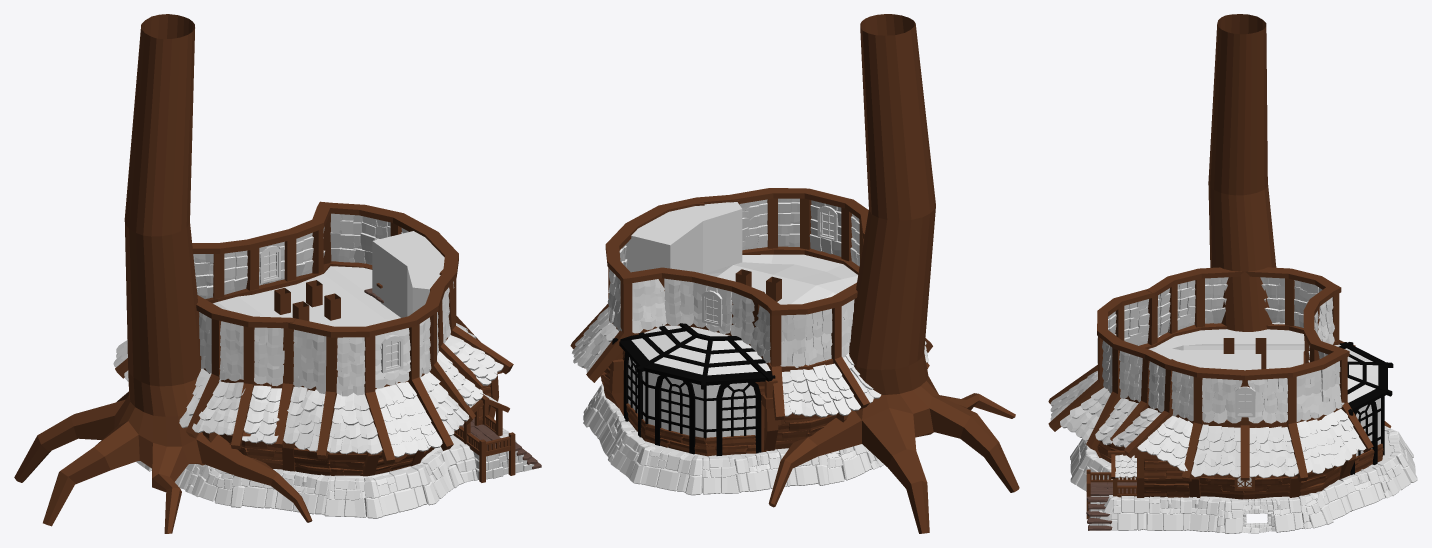
The model's file is GroundFloorPlayTest2.fbx.
3 renders of one model, left to right at view 1: azimuth 30°, elevation 25°; view 2: azimuth 150°, elevation 25°; view 3: azimuth 270°, elevation 25°, orthographic. The views are drawn at different scales.
Visible parts, largest first — view 1: Tree, RoofFinal, RoofBeam.002, HouseStoneBase, RoofBeam.001, Cube.062, Cube.068, OuterBeam.002, Plank.052, PorchBanister.001, RoofBeam.003, Plank.050 (+2 smaller); view 2: Tree, RoofFinal, HouseStoneBase, Cube.068, RoofBeam.001, RoofBeam.002, GHPlank2, Cube.062, GHWindow1, GHWindow2, GHPlank3, GHWall (+6 smaller); view 3: RoofFinal, Tree, HouseStoneBase, RoofBeam.002, RoofBeam.001, Cube.062, OuterBeam.002, Plank.072, Cube.068, RoofBeam.003, GHPlank3, PorchStairs (+10 smaller).
Boxes of the visible parts, x1=… form: Tree: x1=14, y1=14, x2=312, y2=533; RoofFinal: x1=113, y1=213, x2=503, y2=457; RoofBeam.002: x1=115, y1=213, x2=513, y2=464; HouseStoneBase: x1=136, y1=428, x2=534, y2=518; RoofBeam.001: x1=192, y1=201, x2=458, y2=337; Cube.062: x1=213, y1=266, x2=400, y2=326; Cube.068: x1=372, y1=231, x2=444, y2=317; OuterBeam.002: x1=202, y1=280, x2=502, y2=476; Plank.052: x1=294, y1=443, x2=434, y2=475; PorchBanister.001: x1=459, y1=394, x2=515, y2=482; RoofBeam.003: x1=203, y1=261, x2=447, y2=390; Plank.050: x1=220, y1=434, x2=282, y2=469; Tree: x1=768, y1=14, x2=1019, y2=533; RoofFinal: x1=572, y1=198, x2=928, y2=417; HouseStoneBase: x1=583, y1=383, x2=883, y2=495; Cube.068: x1=625, y1=202, x2=742, y2=273; RoofBeam.001: x1=605, y1=188, x2=868, y2=315; RoofBeam.002: x1=570, y1=198, x2=932, y2=420; GHPlank2: x1=624, y1=352, x2=761, y2=455; Cube.062: x1=705, y1=254, x2=857, y2=304; GHWindow1: x1=628, y1=357, x2=755, y2=437; GHWindow2: x1=631, y1=325, x2=770, y2=375; GHPlank3: x1=619, y1=323, x2=775, y2=385; GHWall: x1=622, y1=349, x2=767, y2=456; RoofFinal: x1=1050, y1=277, x2=1366, y2=478; Tree: x1=1208, y1=14, x2=1391, y2=428; HouseStoneBase: x1=1070, y1=426, x2=1417, y2=533; RoofBeam.002: x1=1048, y1=278, x2=1373, y2=481; RoofBeam.001: x1=1097, y1=267, x2=1349, y2=380; Cube.062: x1=1148, y1=329, x2=1304, y2=368; OuterBeam.002: x1=1095, y1=338, x2=1355, y2=497; Plank.072: x1=1144, y1=458, x2=1189, y2=497; Cube.068: x1=1152, y1=346, x2=1261, y2=370; RoofBeam.003: x1=1107, y1=323, x2=1340, y2=427; GHPlank3: x1=1339, y1=342, x2=1387, y2=411; PorchStairs: x1=1086, y1=482, x2=1136, y2=530.
Size of the model in its own units: 16326 by 17043 by 13938.
